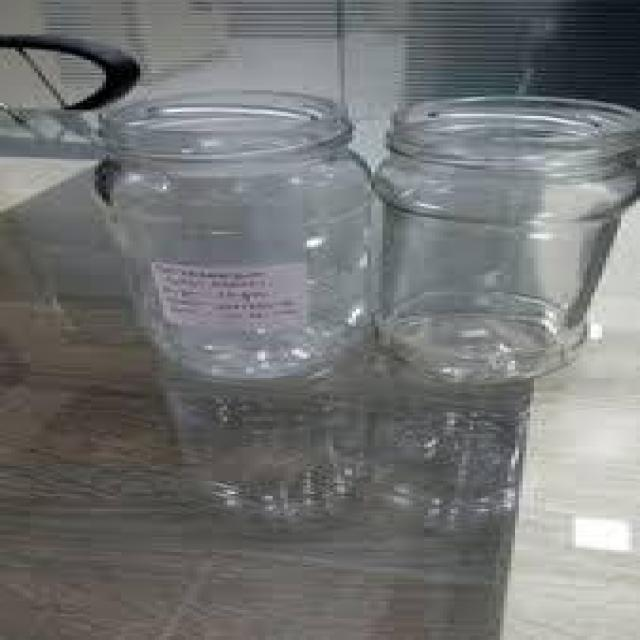glass: (88, 89, 384, 386)
